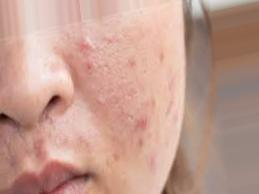Acne: (81, 38, 150, 139)
